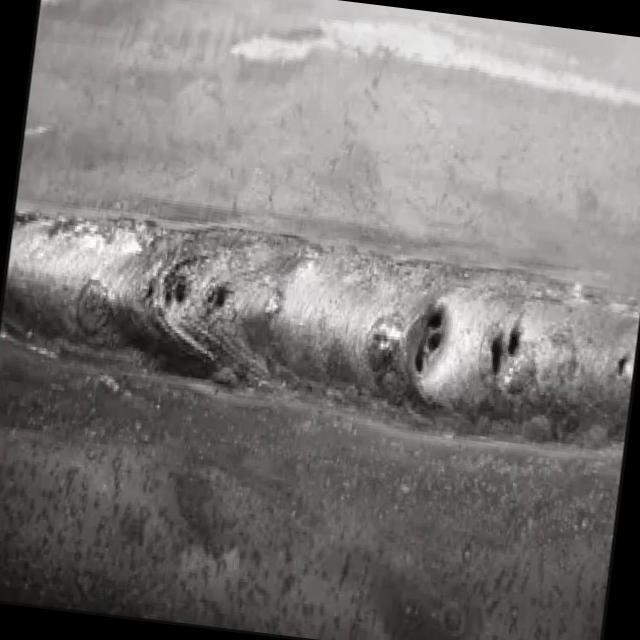defect: (407, 296, 452, 383), (485, 310, 531, 387), (145, 270, 196, 312), (201, 272, 236, 319), (611, 350, 633, 382)
